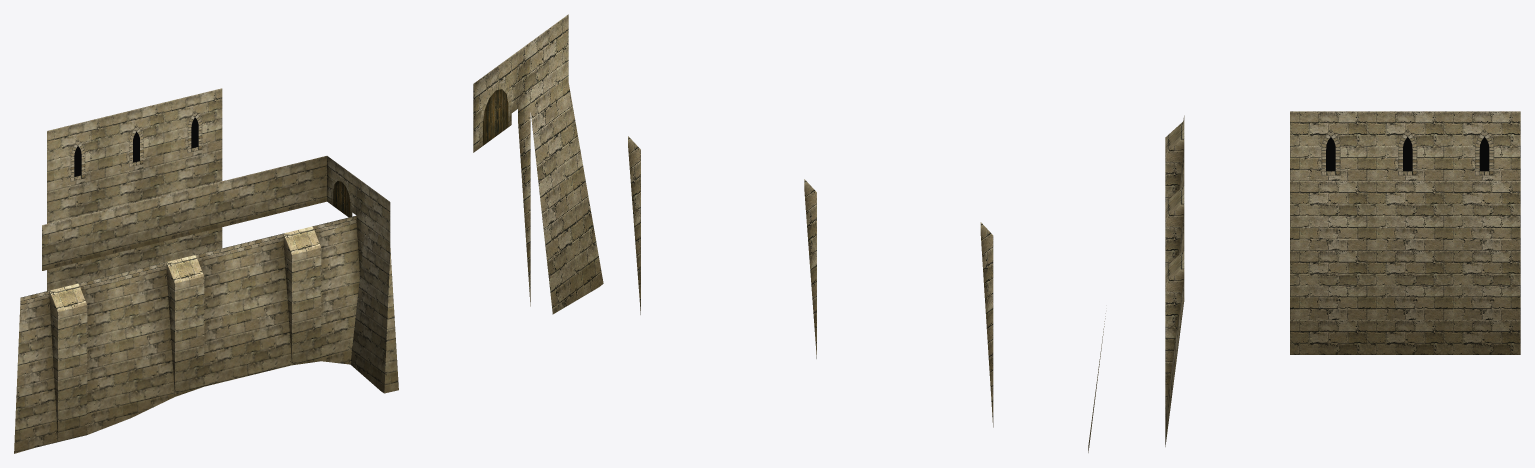
Rendered from Mission12_ExteriorWalls01A_A.glb.
3 views of the same model, side by side, from view 1: azimuth 30°, elevation 25°; view 2: azimuth 150°, elevation 25°; view 3: azimuth 270°, elevation 25° (orthographic). The views are drawn at different scales.
Visible parts, largest first — view 1: MISSION12_EXTERIORWALLS01A_A; view 2: MISSION12_EXTERIORWALLS01A_A; view 3: MISSION12_EXTERIORWALLS01A_A.
Boxes of the visible parts, left/top/right/bottom form: MISSION12_EXTERIORWALLS01A_A: left=14, top=88, right=398, bottom=453; MISSION12_EXTERIORWALLS01A_A: left=473, top=14, right=993, bottom=427; MISSION12_EXTERIORWALLS01A_A: left=1088, top=111, right=1520, bottom=452.
Bounding box in the file's own units: 24 × 17.07 × 22.5.
4 materials, 4 textured.
